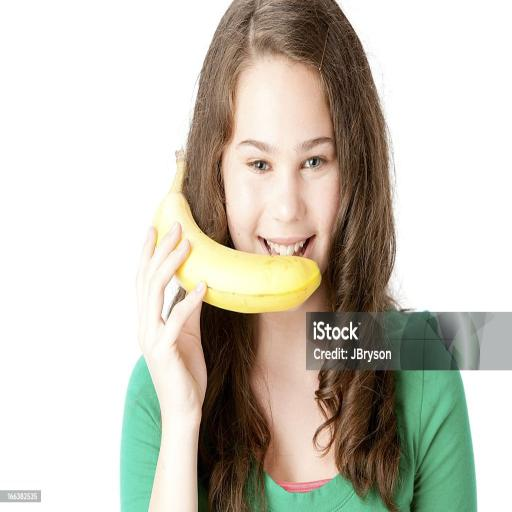banana: (153, 150, 320, 313)
